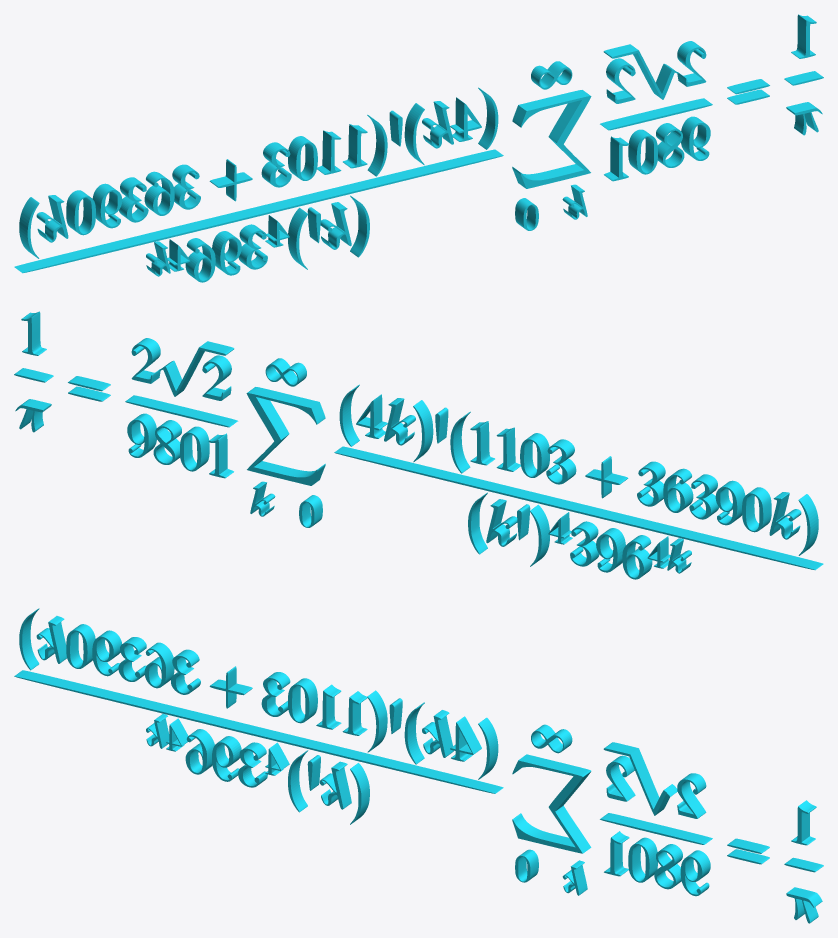
Rendered from ramanujanfbx.fbx.
3 renders of one model, top to bottom at view 1: azimuth 30°, elevation 25°; view 2: azimuth 150°, elevation 25°; view 3: azimuth 330°, elevation 25°, orthographic.
Parts seen in each view (by area): view 1: Curve.005; view 2: Curve.005; view 3: Curve.005.
Part boxes in pixels (box(x1,y1,x2,y2)): Curve.005: box(14, 14, 823, 282); Curve.005: box(14, 311, 823, 579); Curve.005: box(14, 608, 823, 923).
Size of the model in its own units: 63.06 by 11.66 by 1.16.
